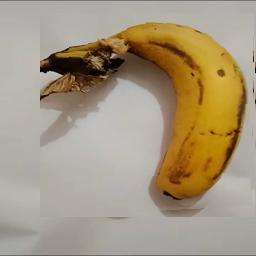Banana Semifresh: (41, 13, 256, 217)
